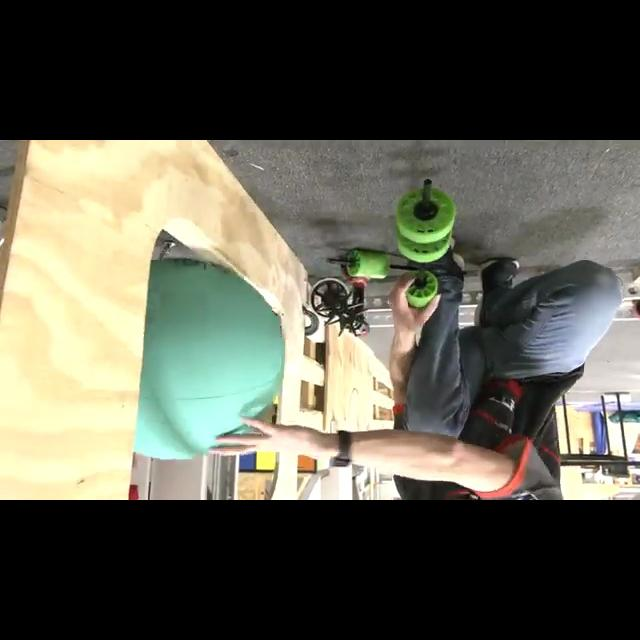ALGAE: (101, 257, 286, 458)
